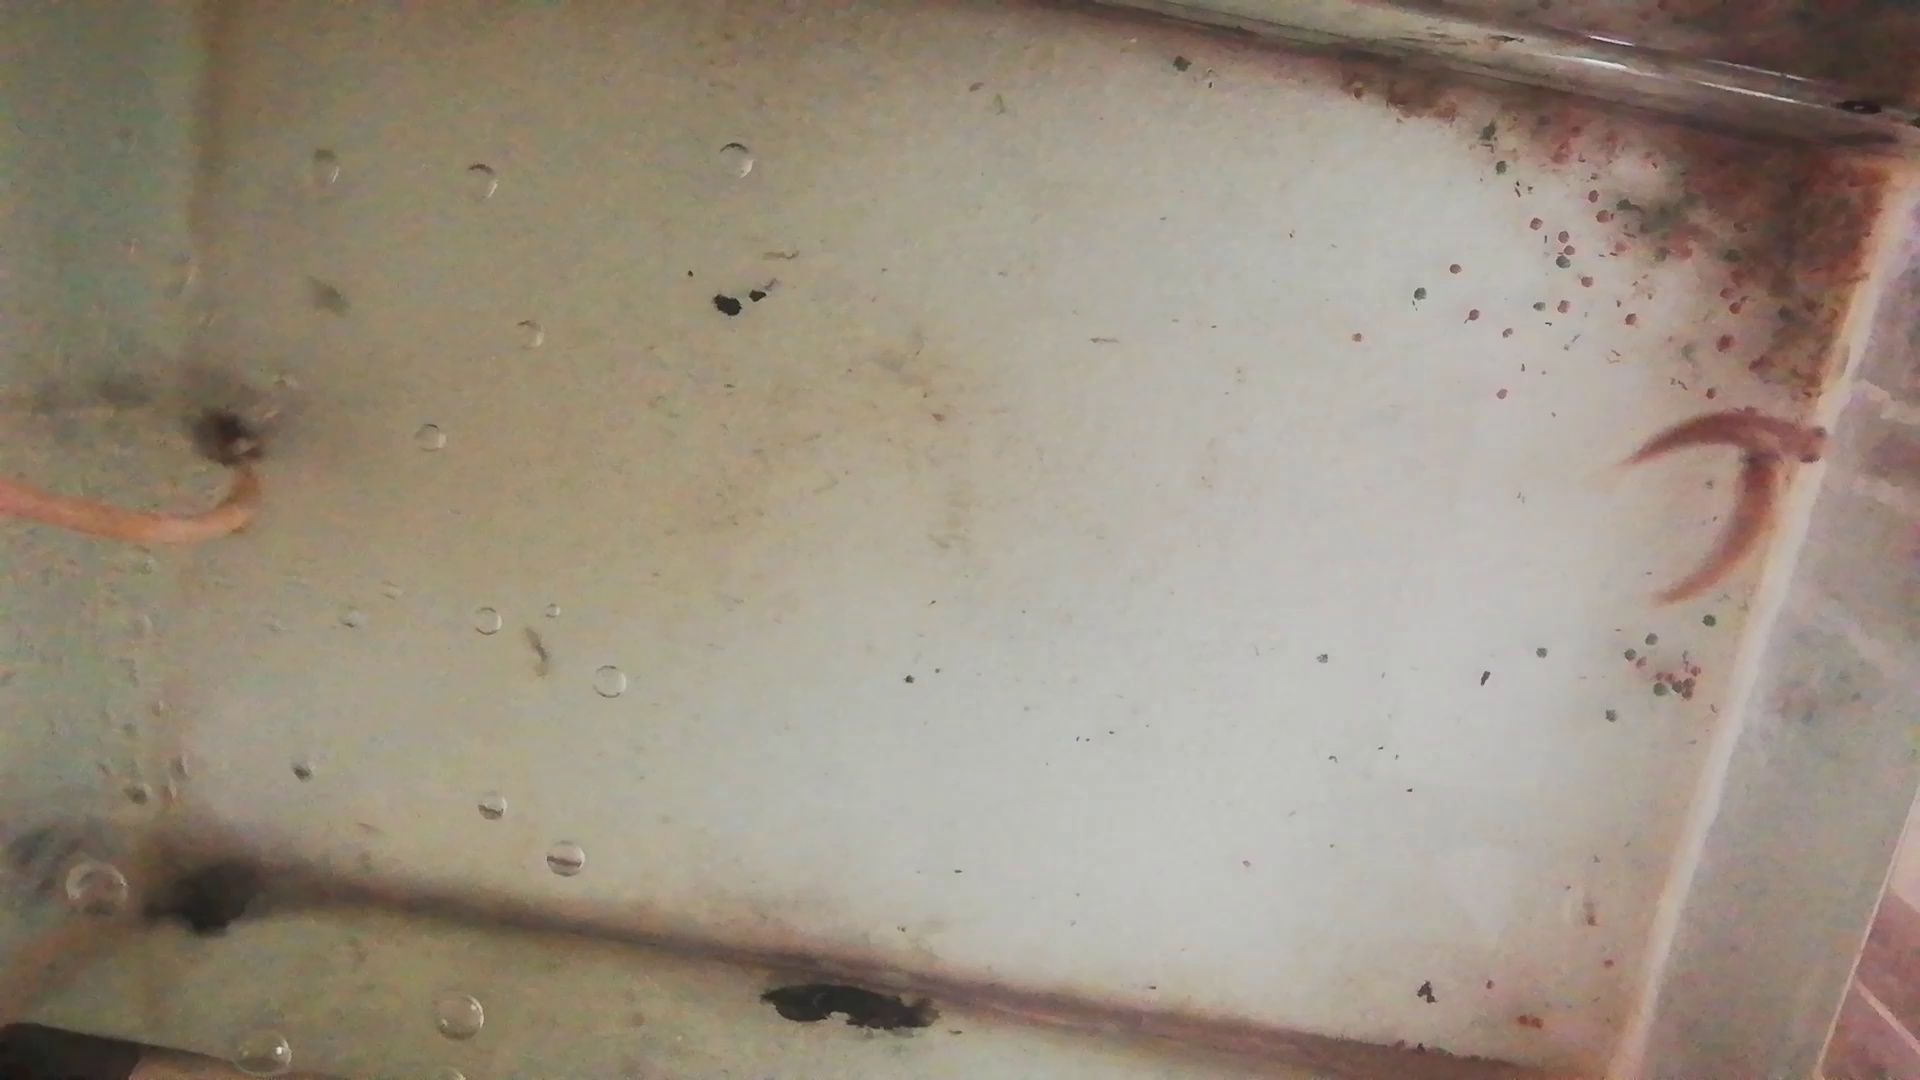fish: (1644, 447, 1785, 607), (1629, 410, 1832, 468)
